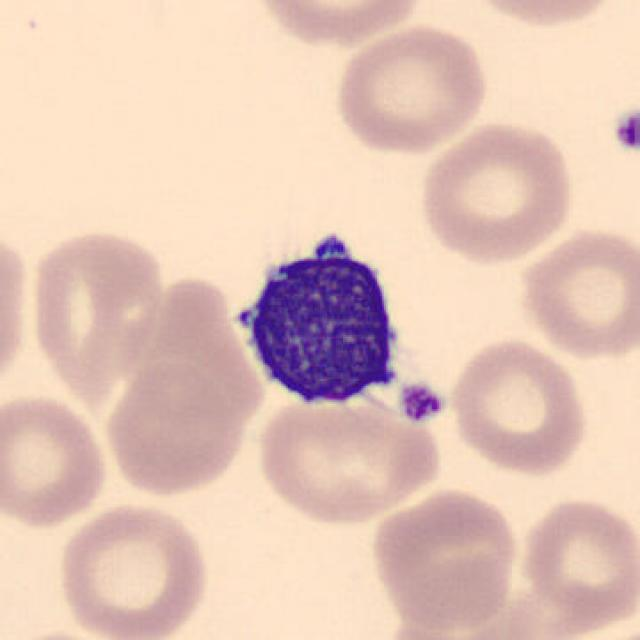Lymphocyte: (238, 233, 408, 409)
Platelets: (398, 379, 450, 427), (606, 102, 640, 157)
RBC: (251, 381, 446, 529), (23, 222, 169, 399), (414, 116, 580, 266), (371, 493, 528, 640), (329, 21, 492, 159), (54, 499, 214, 638), (444, 333, 592, 480), (126, 277, 265, 432), (100, 358, 250, 499), (514, 222, 638, 362), (514, 495, 637, 636), (0, 390, 112, 530), (243, 0, 428, 49), (0, 220, 34, 400), (462, 0, 624, 32), (372, 619, 512, 640)
